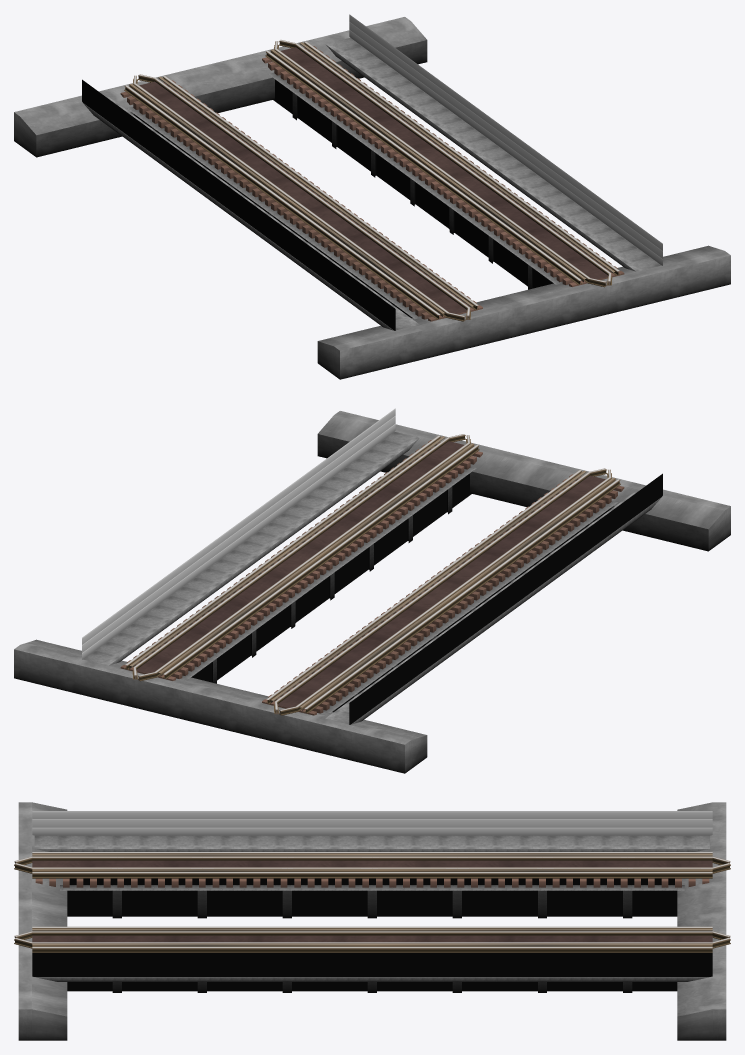
Rendered from MEI_2RAIL_BRIDGE50_NOBANISTER1.glb.
3 views of the same model, one above another, from view 1: azimuth 30°, elevation 25°; view 2: azimuth 150°, elevation 25°; view 3: azimuth 270°, elevation 25° (orthographic). The views are drawn at different scales.
Visible parts, largest first — view 1: obj7, obj16, obj1, obj10, obj8, obj4, obj12, obj11, obj5, obj9, bone0; view 2: obj7, obj1, obj16, obj10, obj8, bone0, obj9, obj5, obj11, obj12, obj4; view 3: obj7, obj1, obj16, obj10, obj8, obj5, obj9, obj12, obj11, obj4, bone0.
Part boxes in pixels (x1=…): obj7: x1=82, y1=14, x2=662, y2=330; obj16: x1=317, y1=245, x2=730, y2=379; obj1: x1=14, y1=17, x2=427, y2=157; obj10: x1=352, y1=215, x2=586, y2=298; obj8: x1=196, y1=101, x2=429, y2=183; obj4: x1=396, y1=248, x2=624, y2=321; obj12: x1=158, y1=73, x2=385, y2=151; obj11: x1=239, y1=133, x2=467, y2=210; obj5: x1=315, y1=188, x2=542, y2=265; obj9: x1=277, y1=160, x2=505, y2=238; bone0: x1=120, y1=46, x2=348, y2=123; obj7: x1=82, y1=408, x2=662, y2=724; obj1: x1=14, y1=639, x2=427, y2=773; obj16: x1=317, y1=411, x2=730, y2=551; obj10: x1=352, y1=467, x2=586, y2=549; obj8: x1=196, y1=582, x2=429, y2=664; bone0: x1=120, y1=642, x2=348, y2=715; obj9: x1=277, y1=527, x2=505, y2=604; obj5: x1=315, y1=499, x2=542, y2=577; obj11: x1=239, y1=554, x2=467, y2=632; obj12: x1=158, y1=614, x2=385, y2=692; obj4: x1=396, y1=440, x2=624, y2=517; obj7: x1=32, y1=811, x2=712, y2=992; obj1: x1=677, y1=802, x2=730, y2=1040; obj16: x1=14, y1=802, x2=67, y2=1040; obj10: x1=117, y1=878, x2=205, y2=887; obj8: x1=457, y1=878, x2=545, y2=887; obj5: x1=212, y1=878, x2=287, y2=887; obj9: x1=294, y1=878, x2=368, y2=887; obj12: x1=552, y1=878, x2=627, y2=887; obj11: x1=376, y1=878, x2=450, y2=887; obj4: x1=35, y1=878, x2=110, y2=887; bone0: x1=634, y1=878, x2=709, y2=887.
Size of the model in its own units: 36 by 4.68 by 52.7.
Materials: 19 (16 with a texture image).
